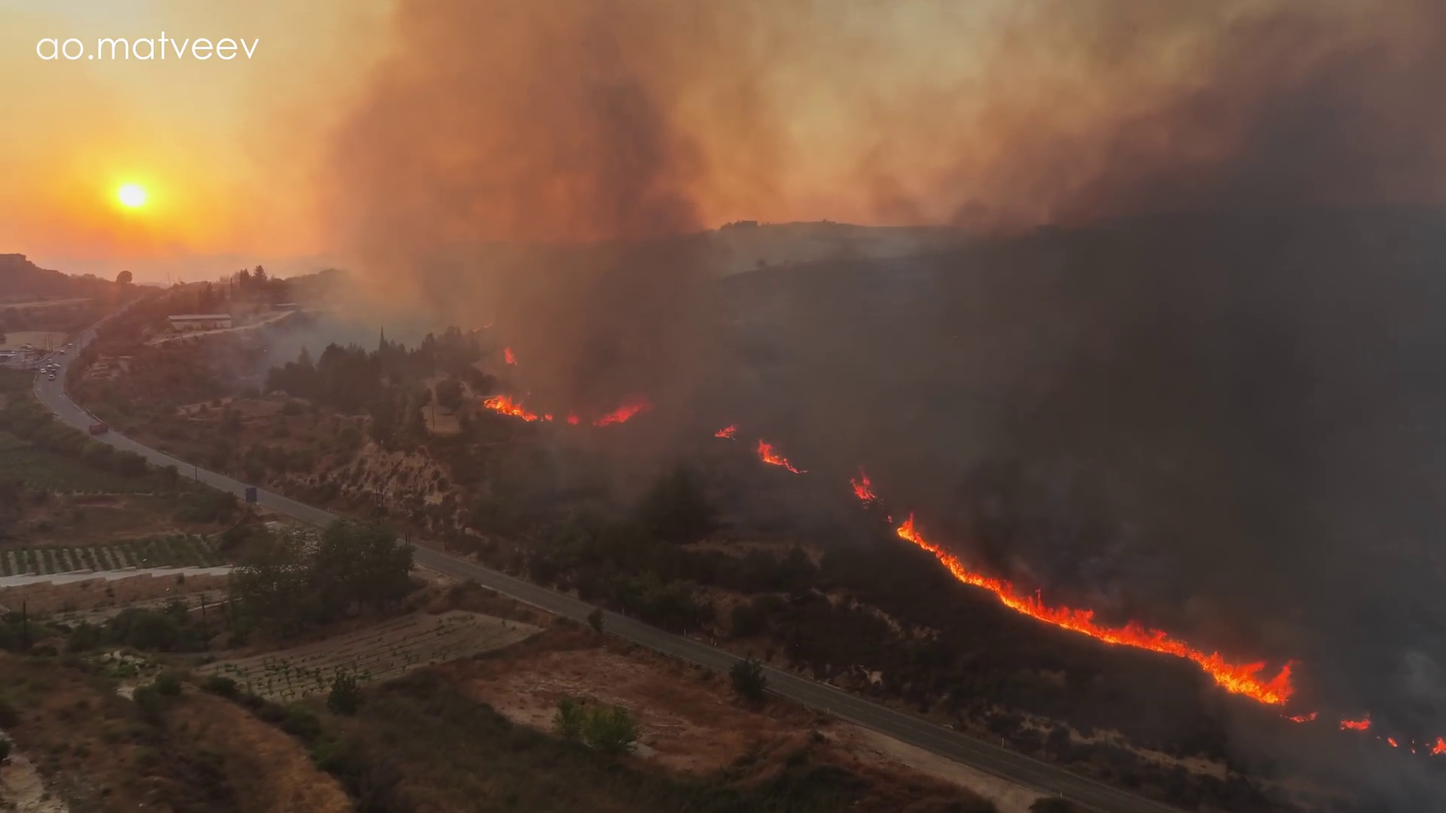forest_fire: (895, 514, 1292, 705), (756, 438, 804, 473), (593, 397, 650, 425), (483, 394, 541, 420), (850, 468, 876, 503), (714, 424, 737, 438)
